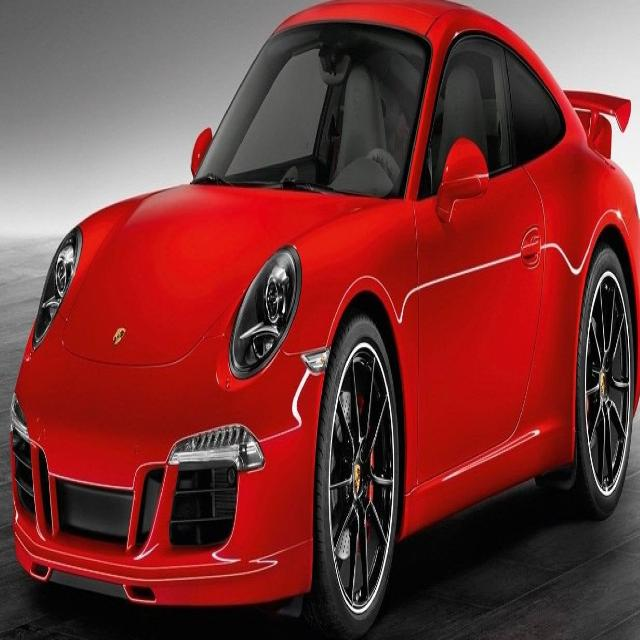red: (11, 0, 639, 595)
